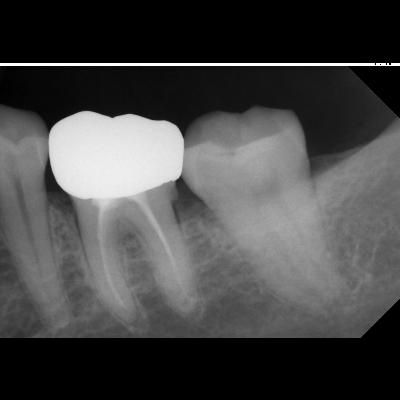tooth: (179, 104, 343, 314)
